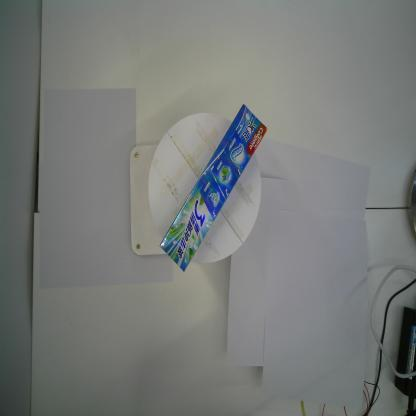Personal Hygiene: (159, 103, 268, 272)
